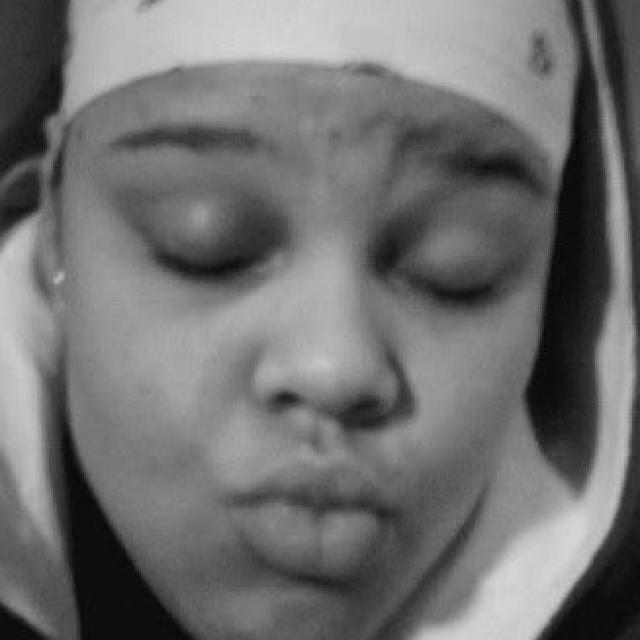real: (39, 52, 562, 620), (142, 178, 528, 318)
